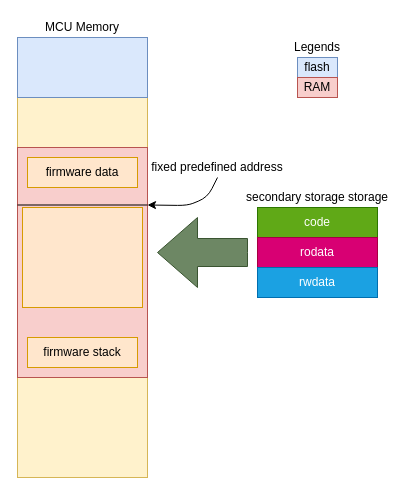
Some shapes in this 415 by 495 pixel diagram are drawn without their labels. The centre of each missing label's shape, as x and y in pixels:
Firmware code: the point at 82,67
load: the point at 202,252
reserved for load: the point at 82,257
